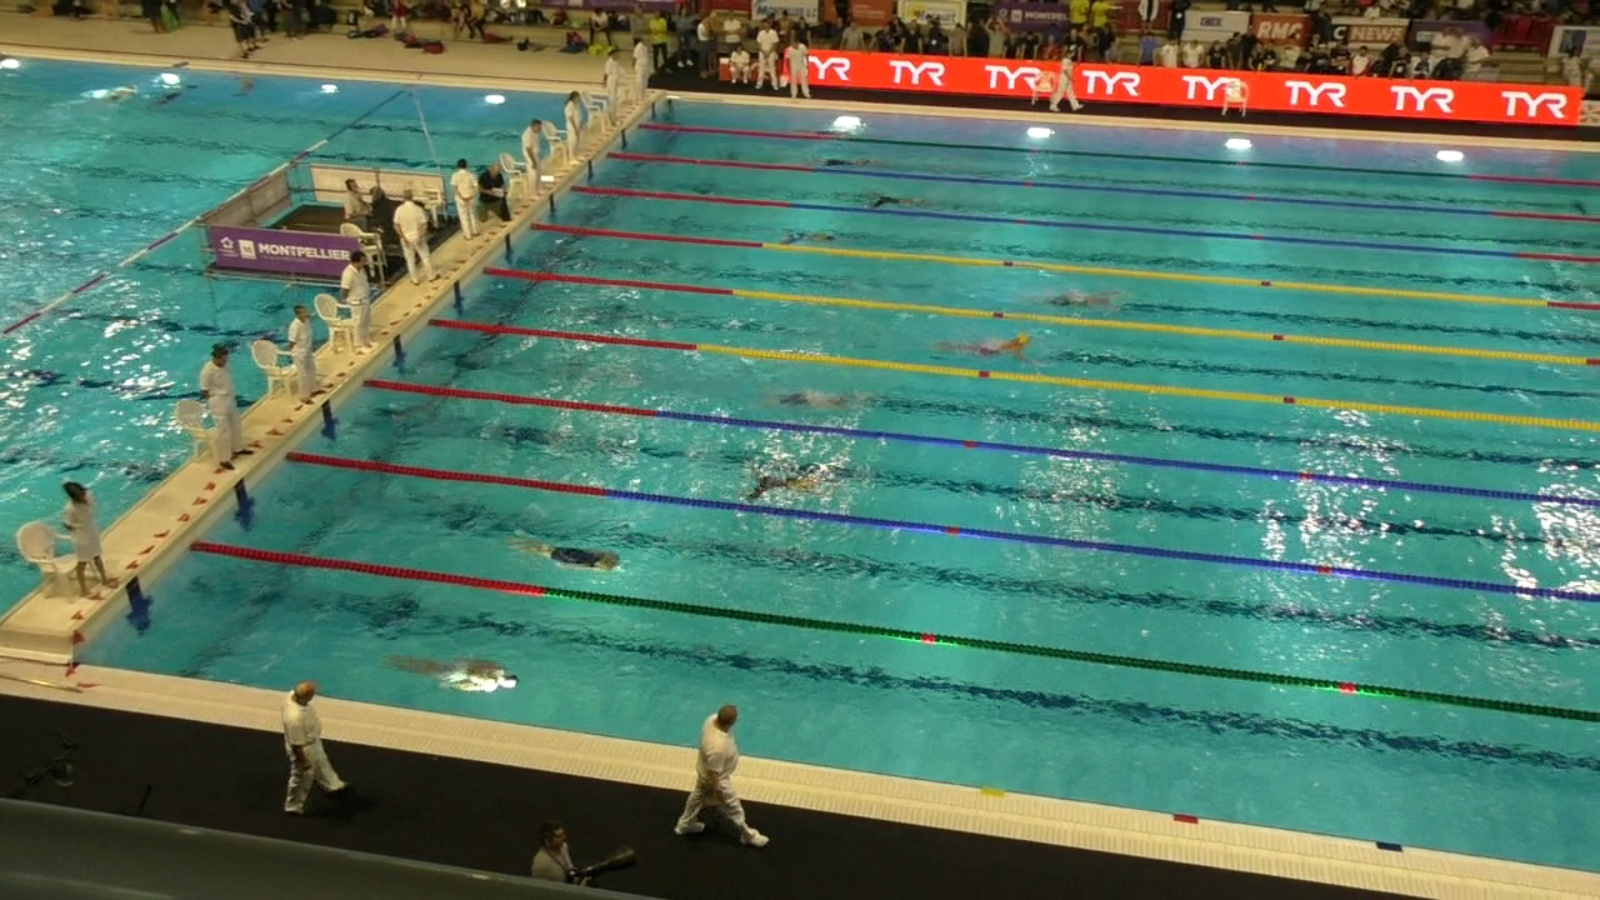swimmerwdd: (382, 652, 529, 696), (503, 535, 647, 573), (766, 384, 867, 427), (749, 464, 851, 503), (933, 333, 1041, 368), (1009, 287, 1125, 316), (765, 220, 862, 251), (853, 189, 930, 220), (795, 149, 875, 175), (781, 123, 873, 138)
